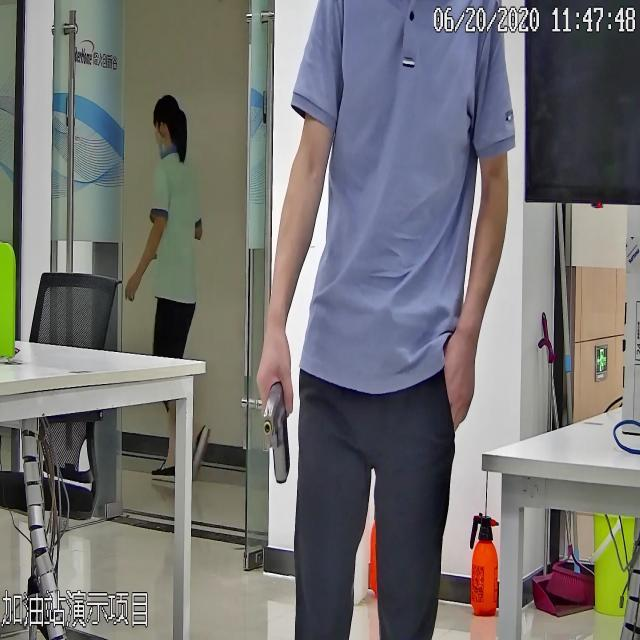gun-knife-thesis - v11 Yolov5 augmented: (252, 367, 291, 489)
